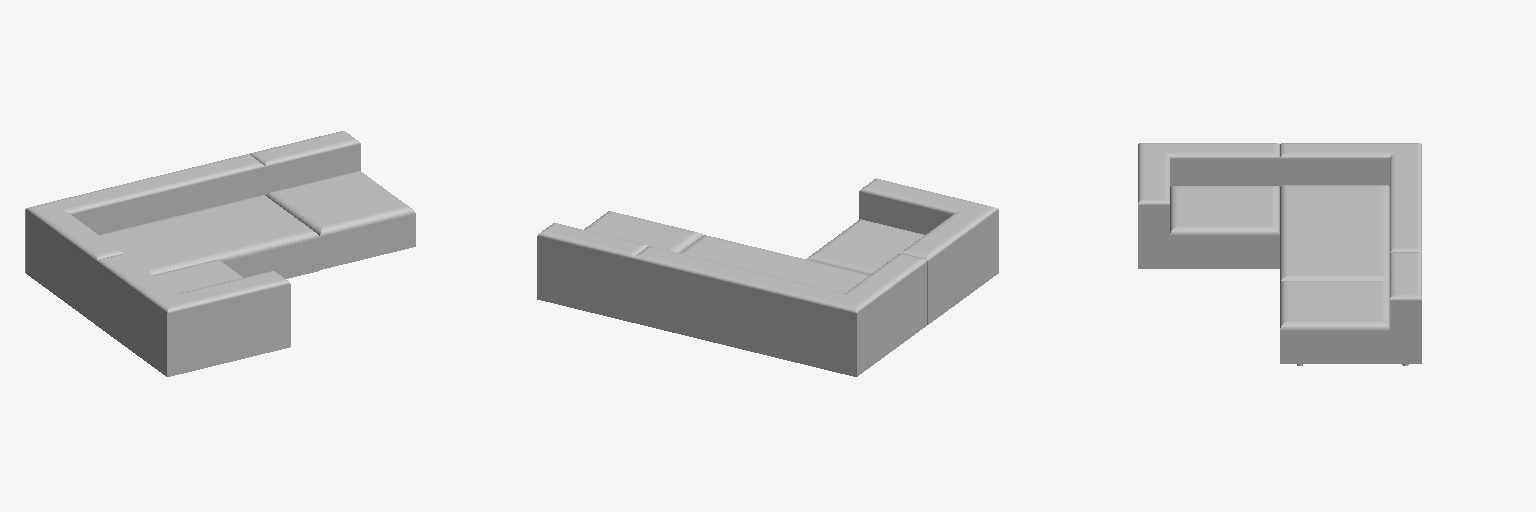
Rendered from sofa1.obj.
The picture shows the model from 3 angles: view 1: azimuth 30°, elevation 25°; view 2: azimuth 150°, elevation 25°; view 3: azimuth 270°, elevation 25°; orthographic projection.
Visible parts, largest first — view 1: Box4, Box3, Box2, Box7, Box6, Box1, Box5, Box; view 2: Box7, Box5, Box1, Box6, Box4, Box3, Box, Box2; view 3: Box4, Box2, Box, Box1, Box6, Box3, Box5, Box7.
Boxes of the visible parts, x1,y1,x2,y2 form: Box4: [100, 195, 319, 278]; Box3: [167, 271, 290, 376]; Box2: [266, 171, 415, 269]; Box7: [25, 154, 264, 272]; Box6: [26, 207, 123, 324]; Box1: [96, 254, 178, 376]; Box5: [250, 131, 360, 195]; Box: [154, 259, 242, 292]; Box7: [633, 246, 856, 376]; Box5: [537, 223, 648, 322]; Box1: [900, 207, 998, 324]; Box6: [845, 254, 926, 376]; Box4: [681, 235, 869, 292]; Box3: [859, 178, 990, 234]; Box: [806, 219, 924, 274]; Box2: [584, 211, 703, 252]; Box4: [1280, 185, 1389, 281]; Box2: [1280, 281, 1389, 363]; Box: [1170, 186, 1279, 268]; Box1: [1142, 143, 1279, 186]; Box6: [1280, 143, 1417, 186]; Box3: [1138, 143, 1169, 268]; Box5: [1390, 252, 1421, 363]; Box7: [1390, 143, 1421, 252].
Size of the model in its own units: 28.42 by 6.21 by 21.9.